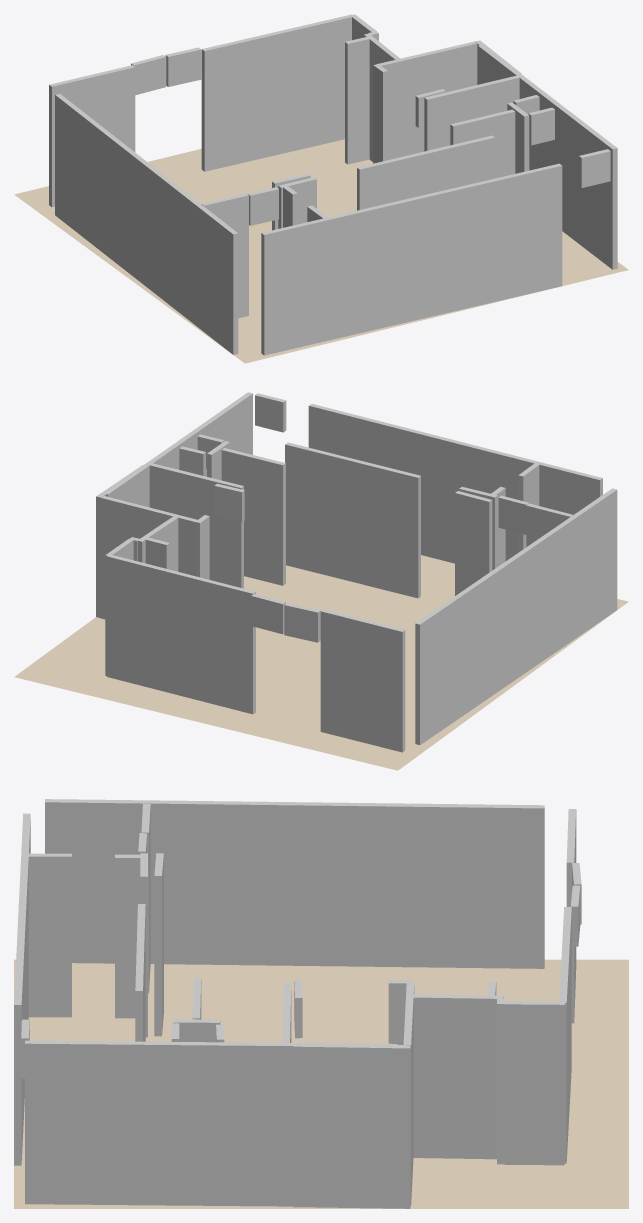
Rendered from d665fefc-b774-47c2-b012-7a179bd65e82.glb.
3 views of the same model, one above another, from view 1: azimuth 30°, elevation 25°; view 2: azimuth 150°, elevation 25°; view 3: azimuth 270°, elevation 25° (orthographic). The views are drawn at different scales.
Parts seen in each view (by area): view 1: wall_1, wall_2, wall_7, floor, wall_8, wall_15, wall_18, wall_6, wall_14, wall_4, wall_17, wall_11 (+10 smaller); view 2: floor, wall_2, wall_7, wall_15, wall_1, wall_6, wall_17, wall_14, wall_8, wall_18, wall_3, door_lintel_3 (+14 smaller); view 3: wall_2, floor, wall_8, wall_21, wall_5, wall_10, wall_9, wall_16, wall_1, wall_7, wall_3, wall_15 (+8 smaller).
Part boxes in pixels (x1,y1,x2,y2): wall_1: (261, 163, 562, 355); wall_2: (55, 94, 238, 354); wall_7: (201, 14, 354, 171); floor: (14, 139, 628, 363); wall_8: (478, 44, 617, 269); wall_15: (357, 135, 494, 210); wall_18: (378, 41, 477, 159); wall_6: (49, 65, 135, 207); wall_14: (424, 75, 520, 151); wall_4: (345, 37, 369, 164); wall_17: (450, 109, 515, 178); wall_11: (201, 193, 248, 318); floor: (14, 555, 628, 770); wall_2: (415, 488, 617, 744); wall_7: (107, 554, 255, 714); wall_15: (285, 442, 420, 598); wall_1: (308, 404, 602, 563); wall_6: (320, 609, 405, 752); wall_17: (221, 448, 285, 585); wall_14: (149, 463, 243, 588); wall_8: (106, 392, 252, 507); wall_18: (101, 496, 198, 619); wall_3: (455, 491, 492, 595); door_lintel_3: (284, 603, 320, 642); wall_2: (45, 799, 544, 968); floor: (14, 959, 628, 1208); wall_8: (25, 1040, 397, 1206); wall_21: (293, 1043, 410, 1208); wall_5: (413, 994, 503, 1159); wall_10: (504, 1001, 564, 1165); wall_9: (28, 853, 71, 1017); wall_16: (115, 854, 140, 1018); wall_1: (14, 813, 30, 1165); wall_7: (559, 907, 571, 1163); wall_3: (154, 853, 163, 1036); wall_15: (135, 904, 145, 1041).
Bounding box in the file's own units: 9.33 × 2.8 × 9.73.
